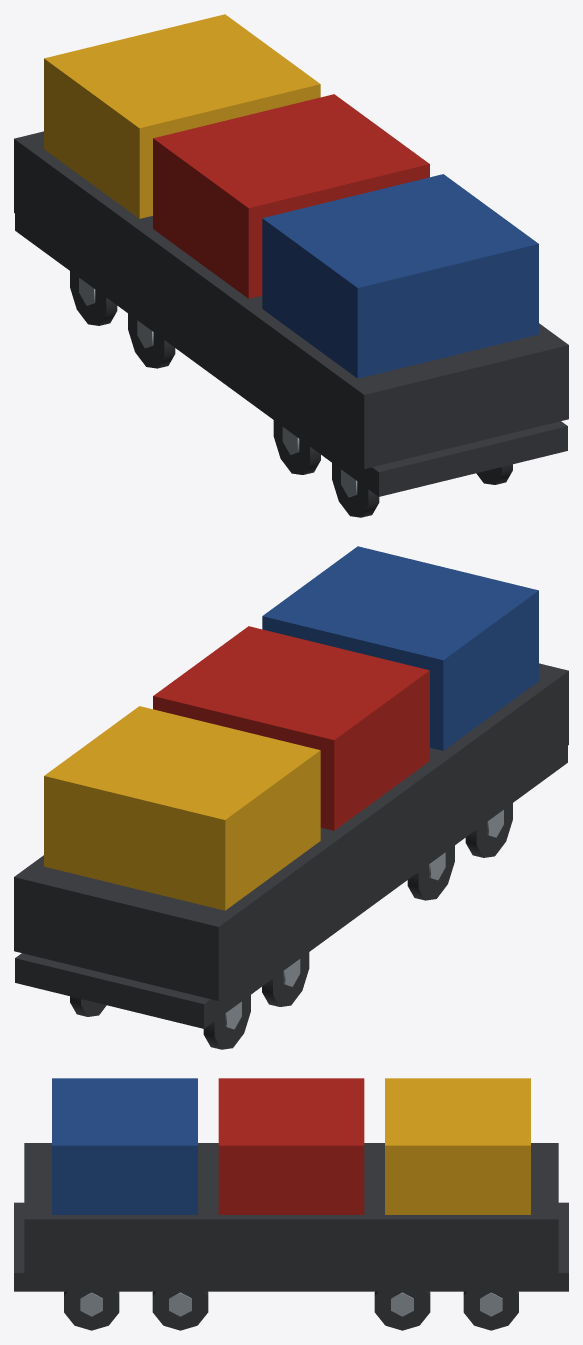
The model's file is veh_ground_rail_wagon_a08.glb.
3 views of the same model, one above another, from view 1: azimuth 30°, elevation 25°; view 2: azimuth 150°, elevation 25°; view 3: azimuth 270°, elevation 25° (orthographic). The views are drawn at different scales.
Visible parts, largest first — view 1: body, wheel_4, wheel_2, wheel_6, wheel_0; view 2: body, wheel_2, wheel_4, wheel_0, wheel_6; view 3: body, wheel_3, wheel_5, wheel_1, wheel_7.
Boxes of the visible parts, x1,y1,x2,y2 form: body: (14,14,568,496); wheel_4: (273,420,320,474); wheel_2: (128,313,175,368); wheel_6: (332,463,379,517); wheel_0: (70,271,117,325); body: (14,546,568,1028); wheel_2: (262,952,309,1006); wheel_4: (407,845,454,900); wheel_0: (203,995,250,1049); wheel_6: (465,803,512,857); body: (14,1078,568,1291); wheel_3: (374,1291,430,1330); wheel_5: (152,1291,208,1330); wheel_1: (463,1291,518,1330); wheel_7: (64,1291,119,1330).
Size of what is drawn, in the model's own units: 2.6 by 3.05 by 8.
